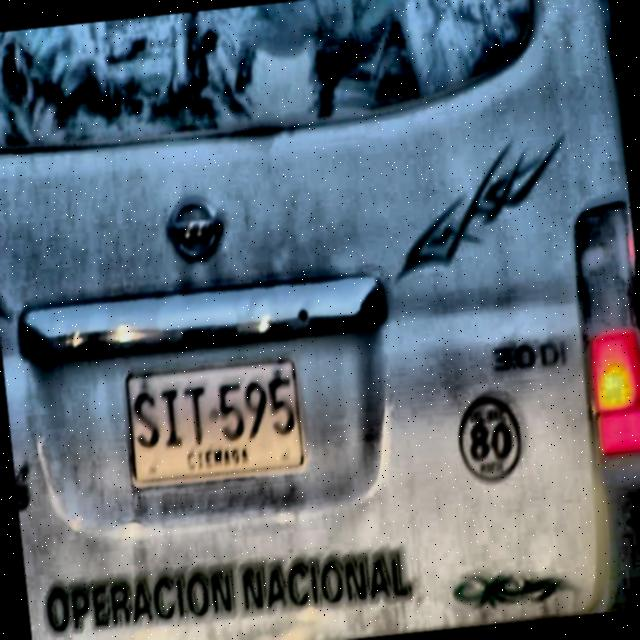5: (267, 374, 298, 440), (216, 379, 247, 444)
9: (242, 378, 271, 443)
I: (158, 385, 187, 450)
S: (131, 390, 162, 450)
T: (181, 382, 210, 447)
